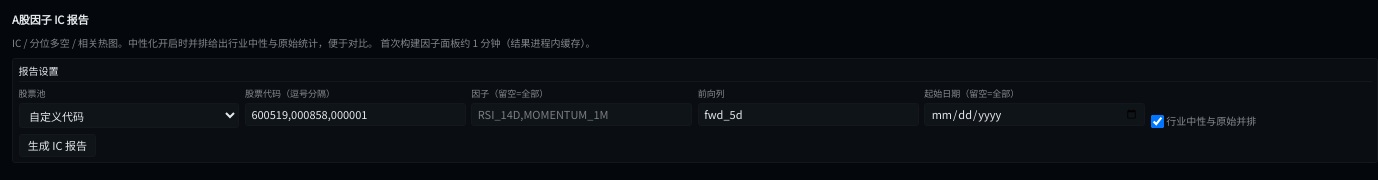
it: AshareFactorReportPage › 运行中显示已用秒数进度（60s 冷建不再是无反馈的禁用按钮）
What coordinates should you click on to do the following:
click the button "生成 IC 报告"
I would click on:
 (57, 145)
Its box is [18,134,96,157].
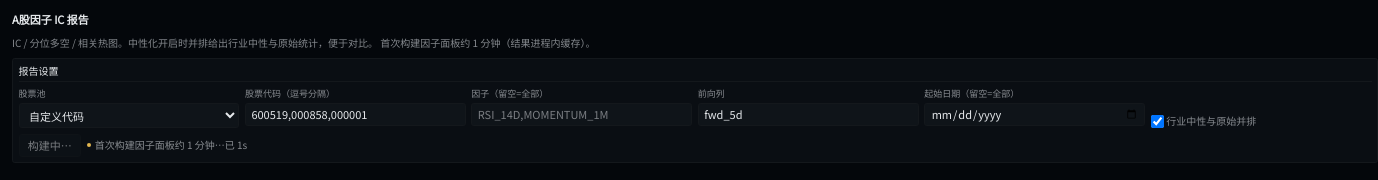
Now the message with test id "factor-report-progress" shows "约 1 分钟", box [95,137,235,152]
Now the message with test id "factor-report-progress" reads "首次构建因子面板约 1 分钟…已 1s", box [86,138,247,152]
